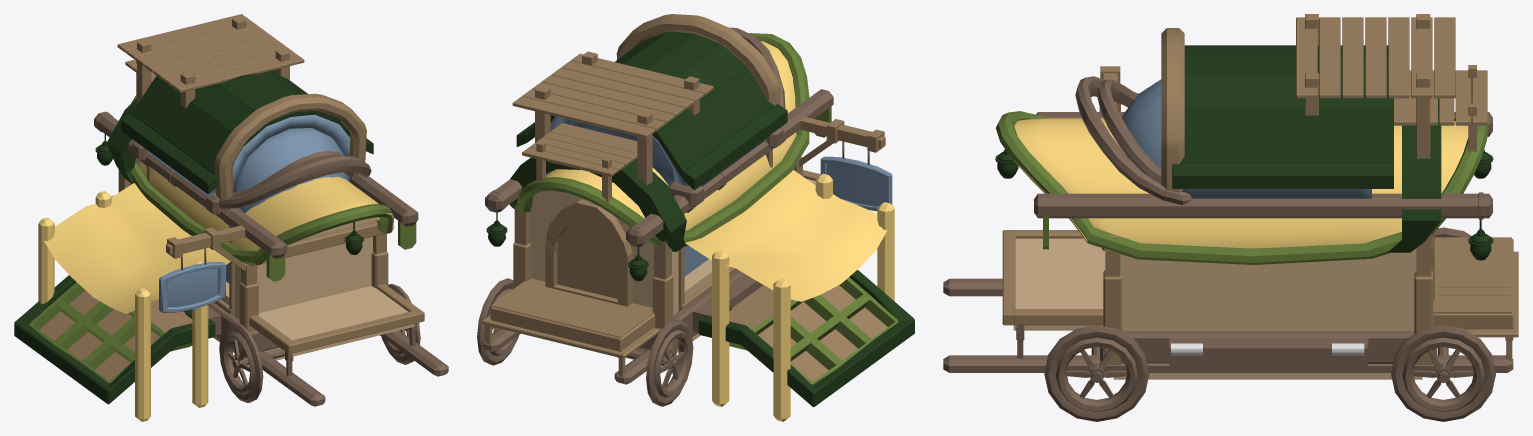
The model's file is traderCarruage_Resized.fbx.
3 views of the same model, side by side, from view 1: azimuth 30°, elevation 25°; view 2: azimuth 150°, elevation 25°; view 3: azimuth 270°, elevation 25° (orthographic). The views are drawn at different scales.
Parts seen in each view (by area): view 1: Cube.009, Base.002, Trader.002, Cube.013, Base.001, Roof.001, Trader.008, Trader.001, Base.003, Cylinder.005, soporte.001, Cube.007 (+12 smaller); view 2: Cube.013, Cube.009, Trader.002, Base.002, Base.001, Trader.001, Roof.001, Base.003, Trader.008, soporte.001, Base.004, Base.005 (+11 smaller); view 3: Base.002, Cube.009, Cube.013, Trader.008, Roof.001, soporte.001, Ruedas.007, Cube.006, Ruedas.006, Cylinder.002, Cylinder.005, Columns.002 (+3 smaller).
Boxes of the visible parts, x1,y1,x2,y2 form: Cube.009: (121,48,373,213); Base.002: (111,158,414,360); Trader.002: (44,183,230,313); Cube.013: (117,14,304,108); Base.001: (29,282,192,383); Roof.001: (131,95,393,265); Trader.008: (139,162,393,262); Trader.001: (38,191,208,421); Base.003: (14,275,215,404); Cylinder.005: (214,93,366,209); soporte.001: (94,111,418,258); Cube.007: (249,283,424,354); Cube.013: (512,51,713,202); Cube.009: (516,31,787,190); Trader.002: (685,170,887,301); Base.002: (490,178,815,359); Base.001: (729,277,898,384); Trader.001: (712,173,894,421); Roof.001: (517,27,809,246); Base.003: (698,269,914,407); Trader.008: (546,41,796,230); soporte.001: (485,89,833,247); Base.004: (545,199,632,306); Base.005: (557,221,618,298); Base.002: (1013,237,1513,379); Cube.009: (1121,45,1393,198); Cube.013: (1296,14,1487,158); Trader.008: (1013,118,1468,248); Roof.001: (996,76,1488,264); soporte.001: (1034,112,1492,219); Ruedas.007: (1044,227,1495,421); Cube.006: (943,251,1518,372); Ruedas.006: (1055,337,1484,412); Cylinder.002: (1388,98,1441,252); Cylinder.005: (1161,28,1184,192); Columns.002: (1103,234,1433,364).
Size of the model in its own units: 877 by 815 by 1221.
